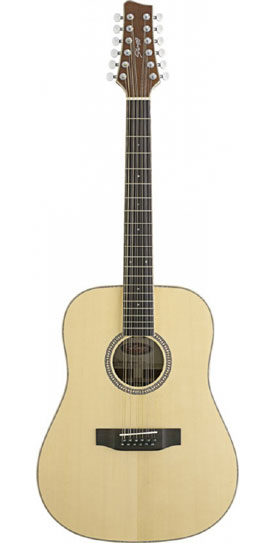guitar: (36, 1, 241, 543)
